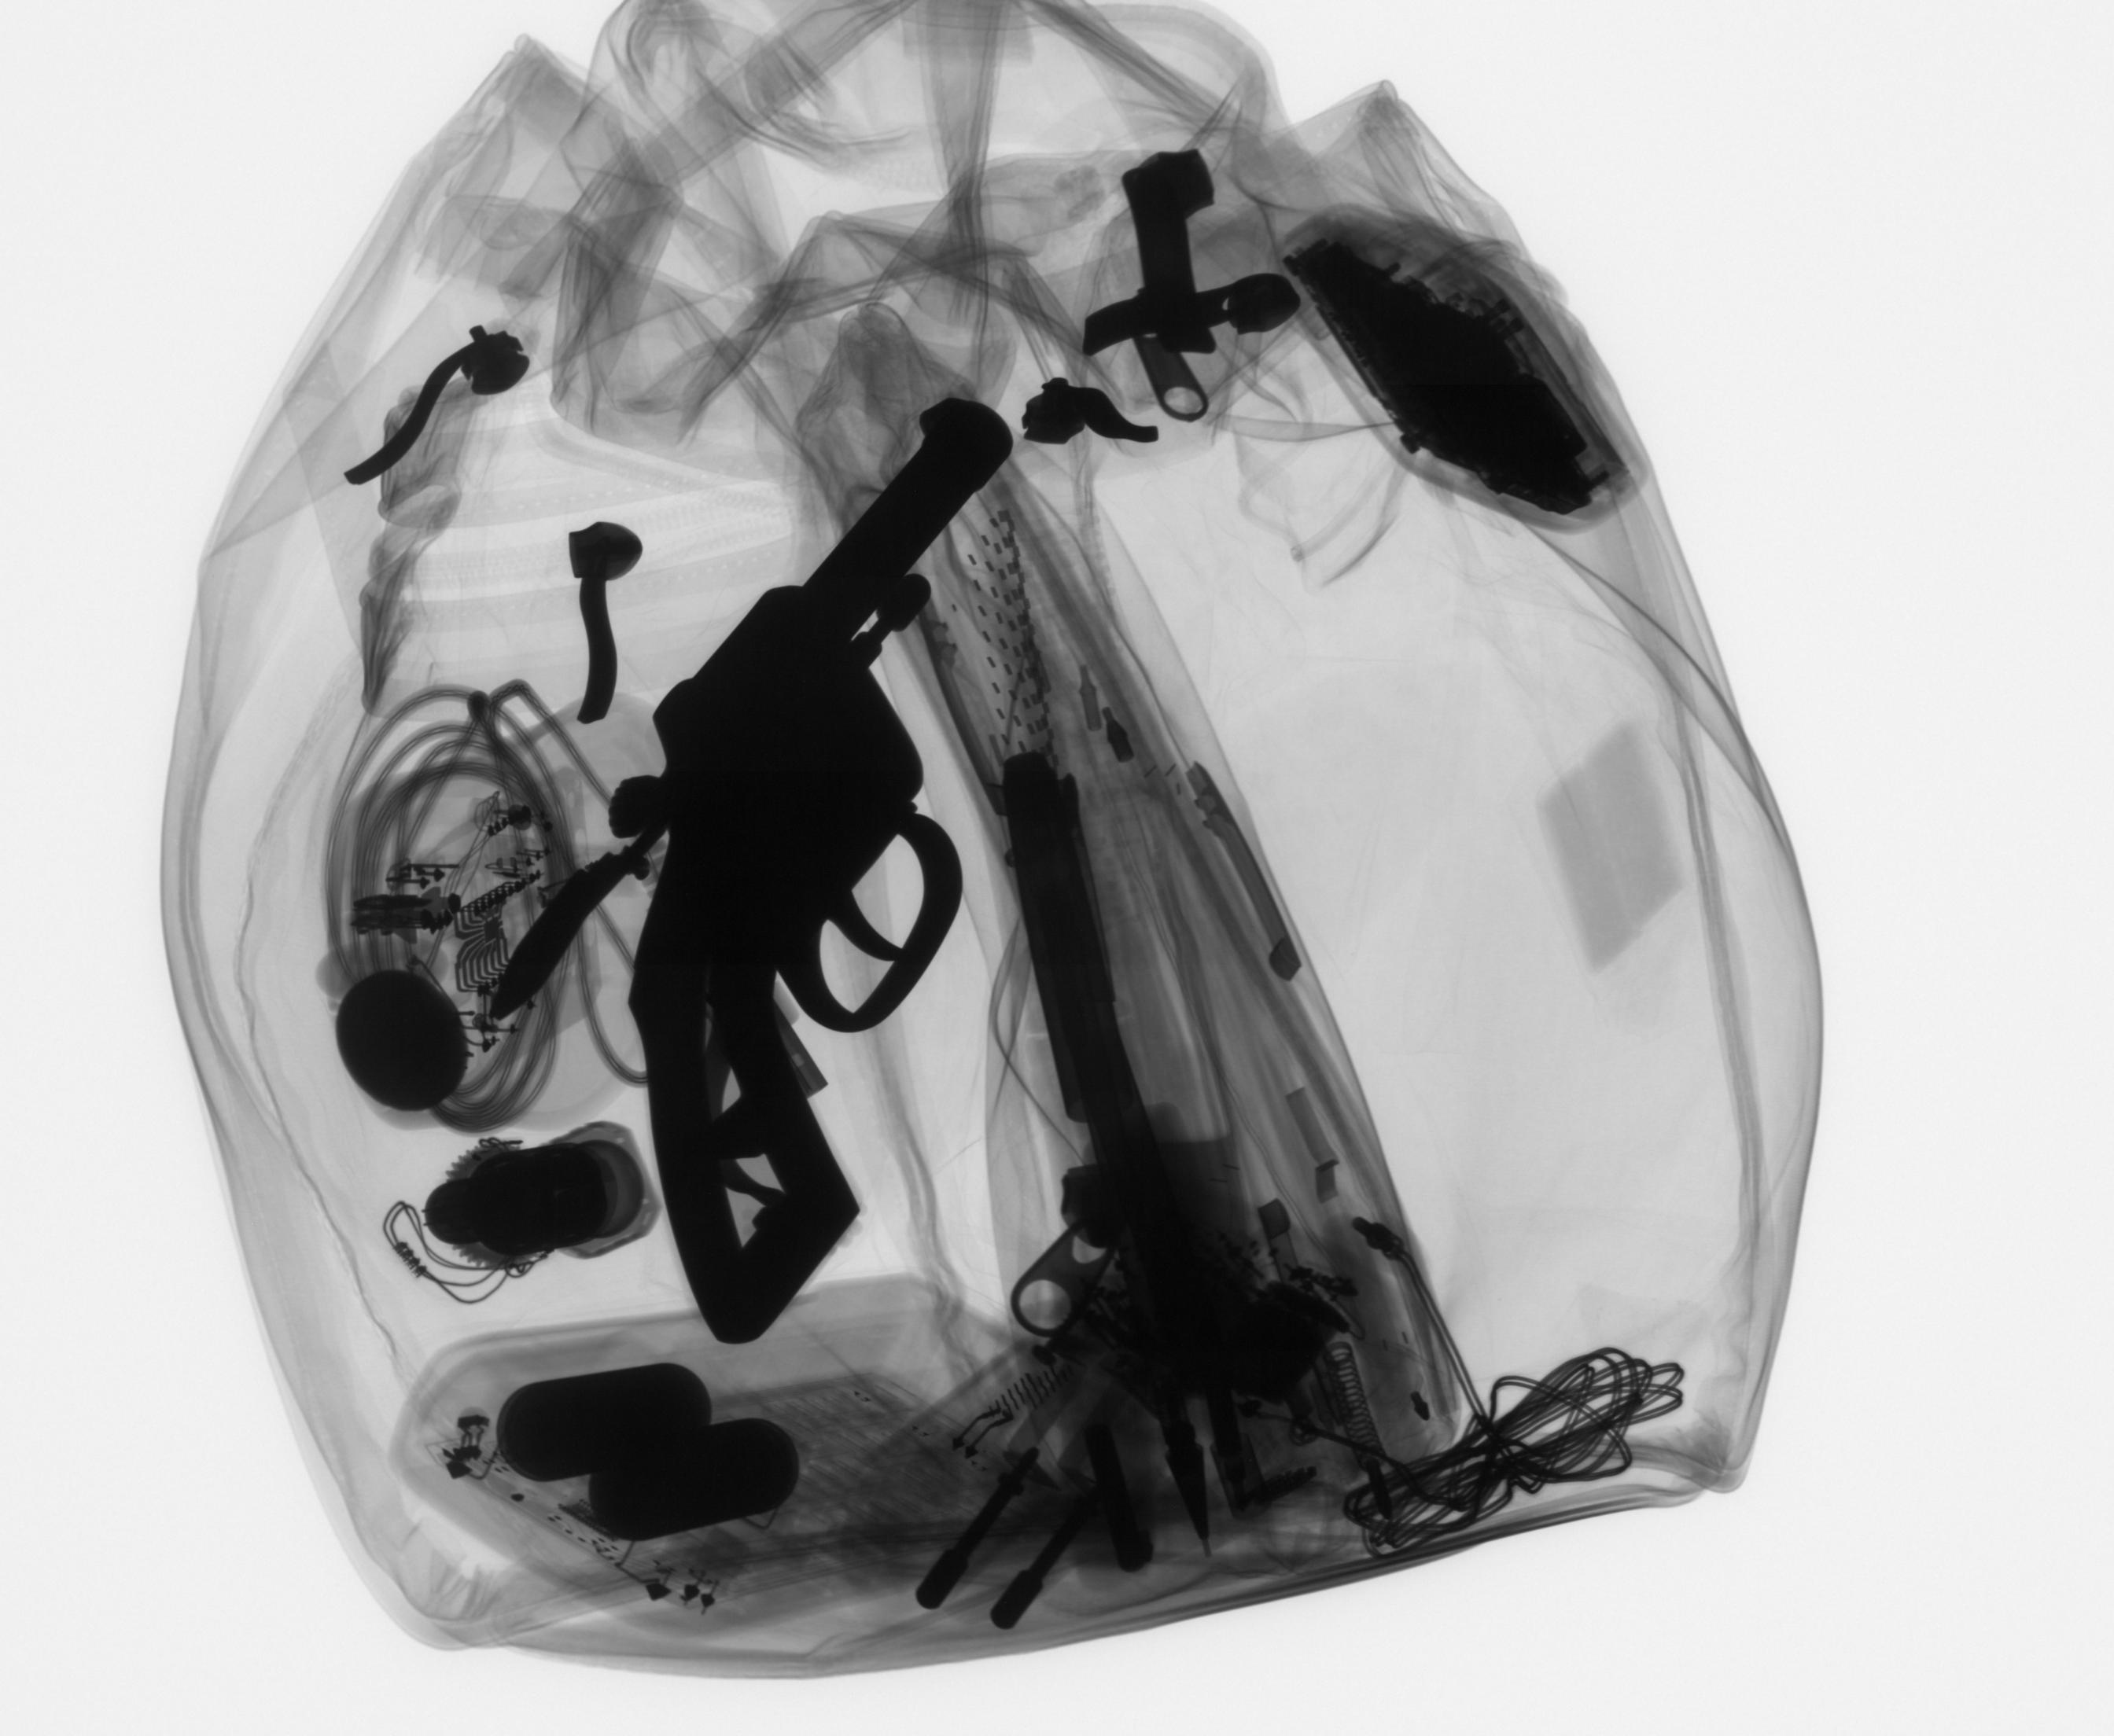Handgun: (600, 383, 1031, 1352)
